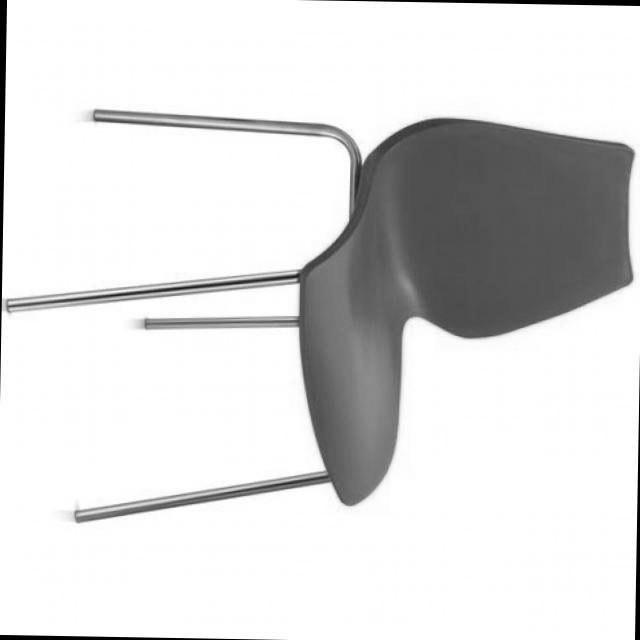chair: (0, 101, 637, 538)
